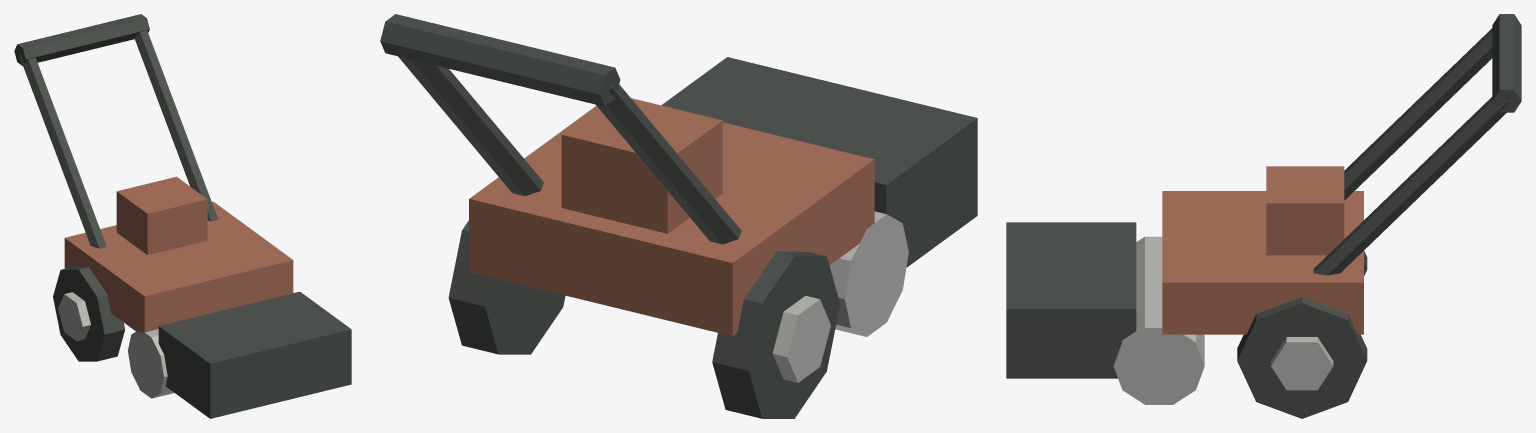
The model's file is green_mower_01.glb.
The picture shows the model from 3 angles, left to right: view 1: azimuth 30°, elevation 25°; view 2: azimuth 150°, elevation 25°; view 3: azimuth 270°, elevation 25°; orthographic projection. The views are drawn at different scales.
Parts seen in each view (by area): view 1: Green_mower_01; view 2: Green_mower_01; view 3: Green_mower_01.
Part boxes in pixels (<box>): Green_mower_01: <box>14,14,351,418</box>; Green_mower_01: <box>380,14,977,418</box>; Green_mower_01: <box>1006,14,1521,418</box>.
Size of the model in its own units: 0.8605 by 1.11 by 1.64.
